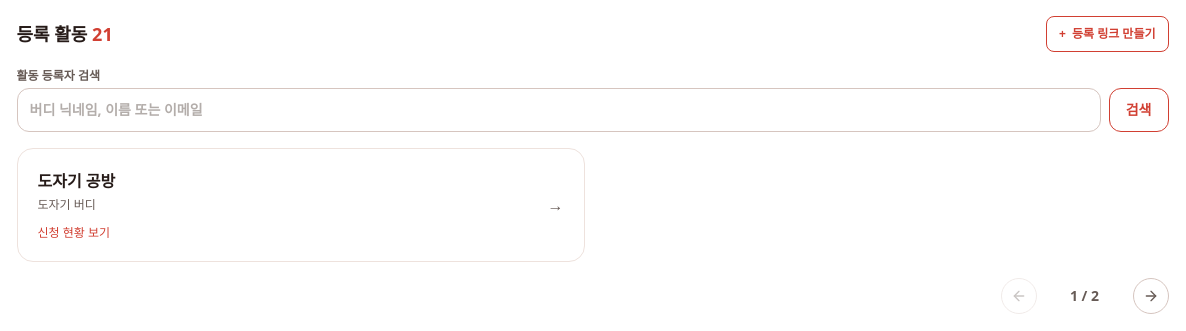
Test: activity-first referral admin › searches activities by owner across all pages and resets the search
expect the heading "도자기 공방" is shown: met, box [38, 170, 115, 192]
Type "studio@example.com" into the field labelled "활동 등록자 검색". click: (559, 110)
box: [16, 88, 1101, 132]
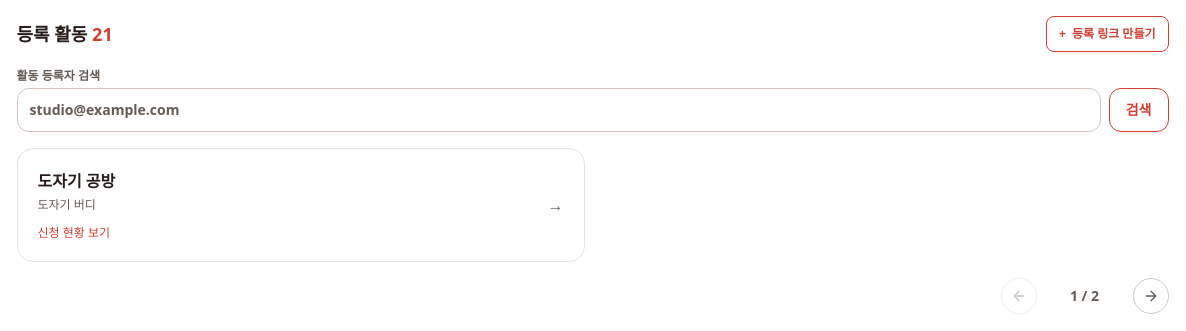
Click the button with aria-label "활동 검색". click: (1139, 110)
box: [1109, 88, 1168, 132]
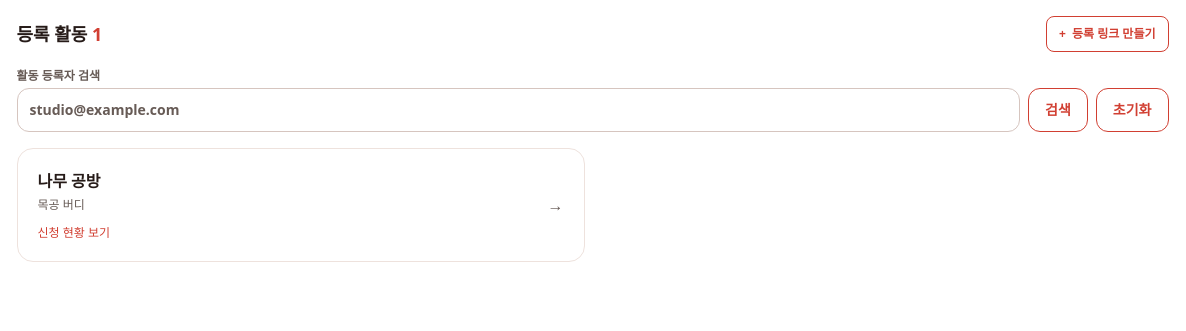
expect the heading "나무 공방" is shown: met, box [38, 170, 100, 192]
expect the link "도자기 공방" is gone: met
Click the button "초기화". click: (1132, 110)
box: [1096, 88, 1168, 132]
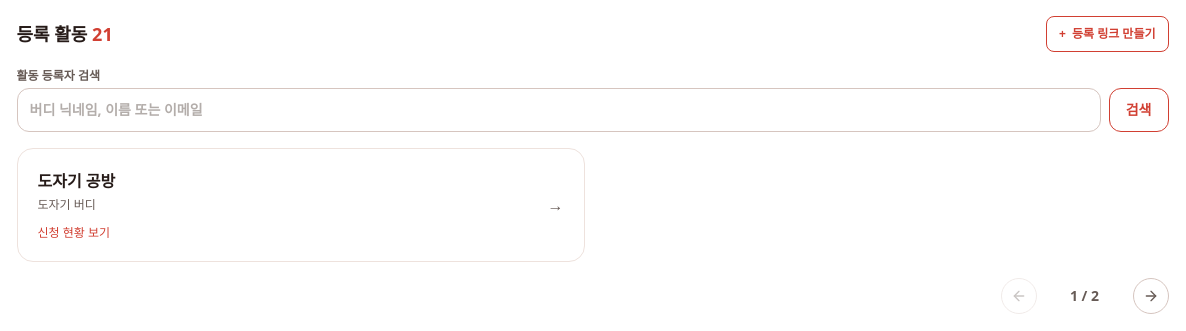
expect the heading "도자기 공방" is shown: met, box [38, 170, 115, 192]
